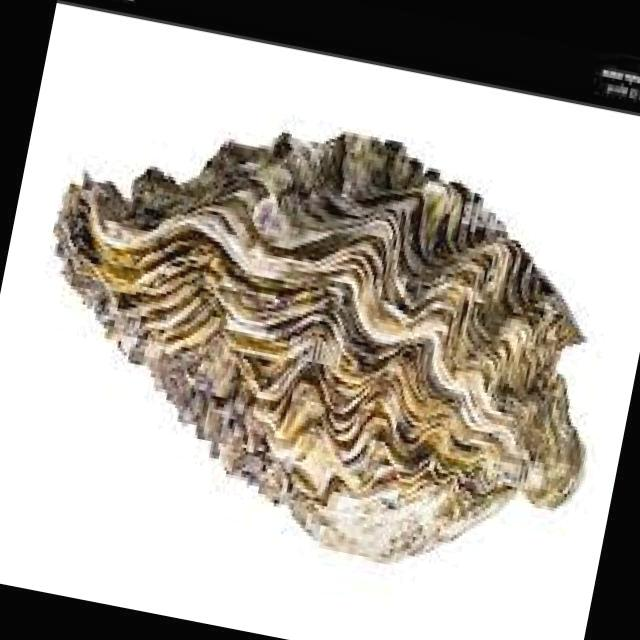Oyster-Closed: (54, 134, 585, 564)
